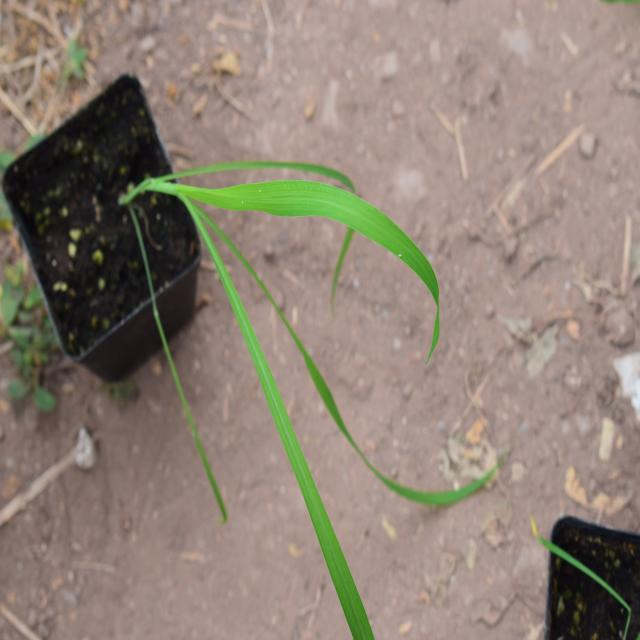barnyard_grass: (165, 156, 466, 616)
